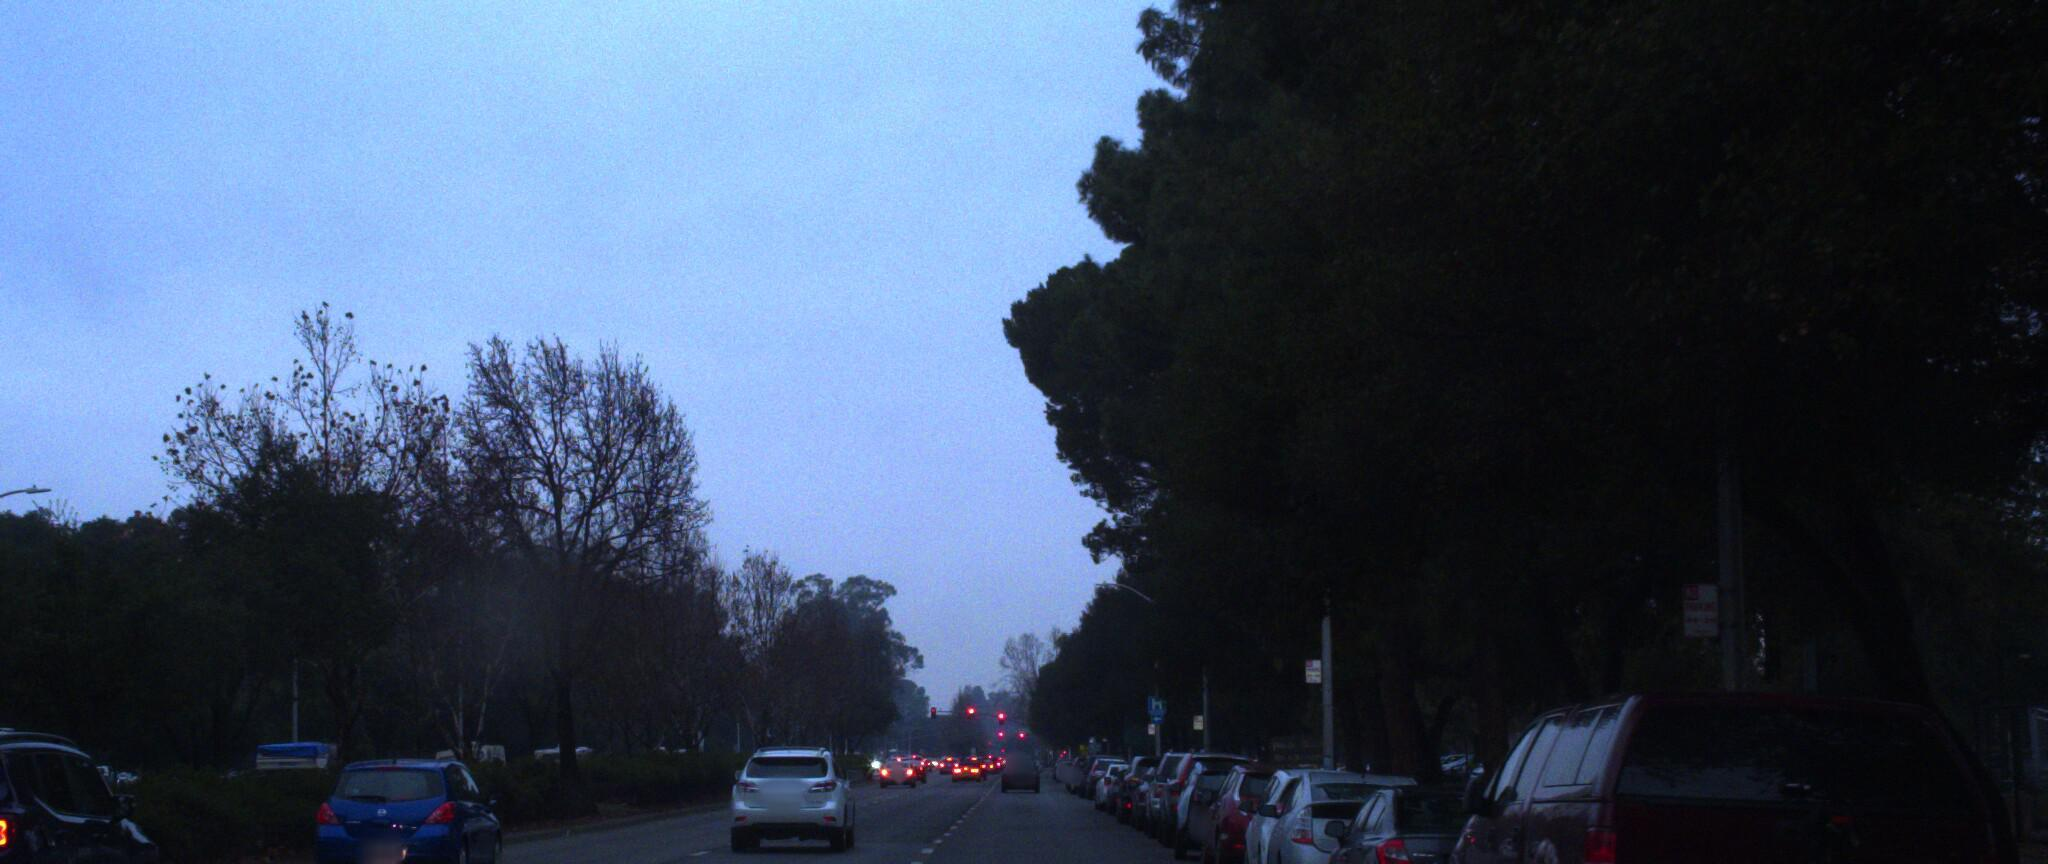car: (1405, 649, 2048, 864), (1313, 757, 1592, 864), (0, 724, 196, 864), (303, 747, 515, 864), (1254, 747, 1456, 864), (1233, 747, 1398, 864), (1196, 741, 1348, 864), (721, 731, 859, 843)
other_vehicle: (0, 707, 33, 854)
